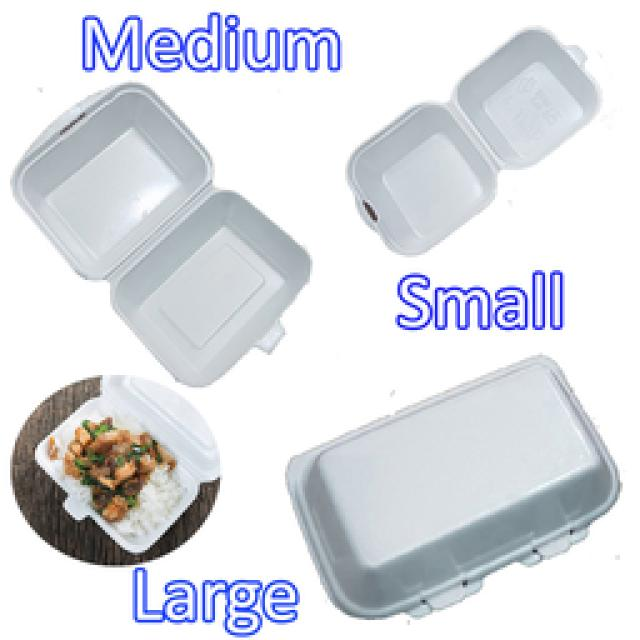styrofoam: (10, 82, 310, 385), (285, 355, 615, 615), (350, 30, 592, 255)
